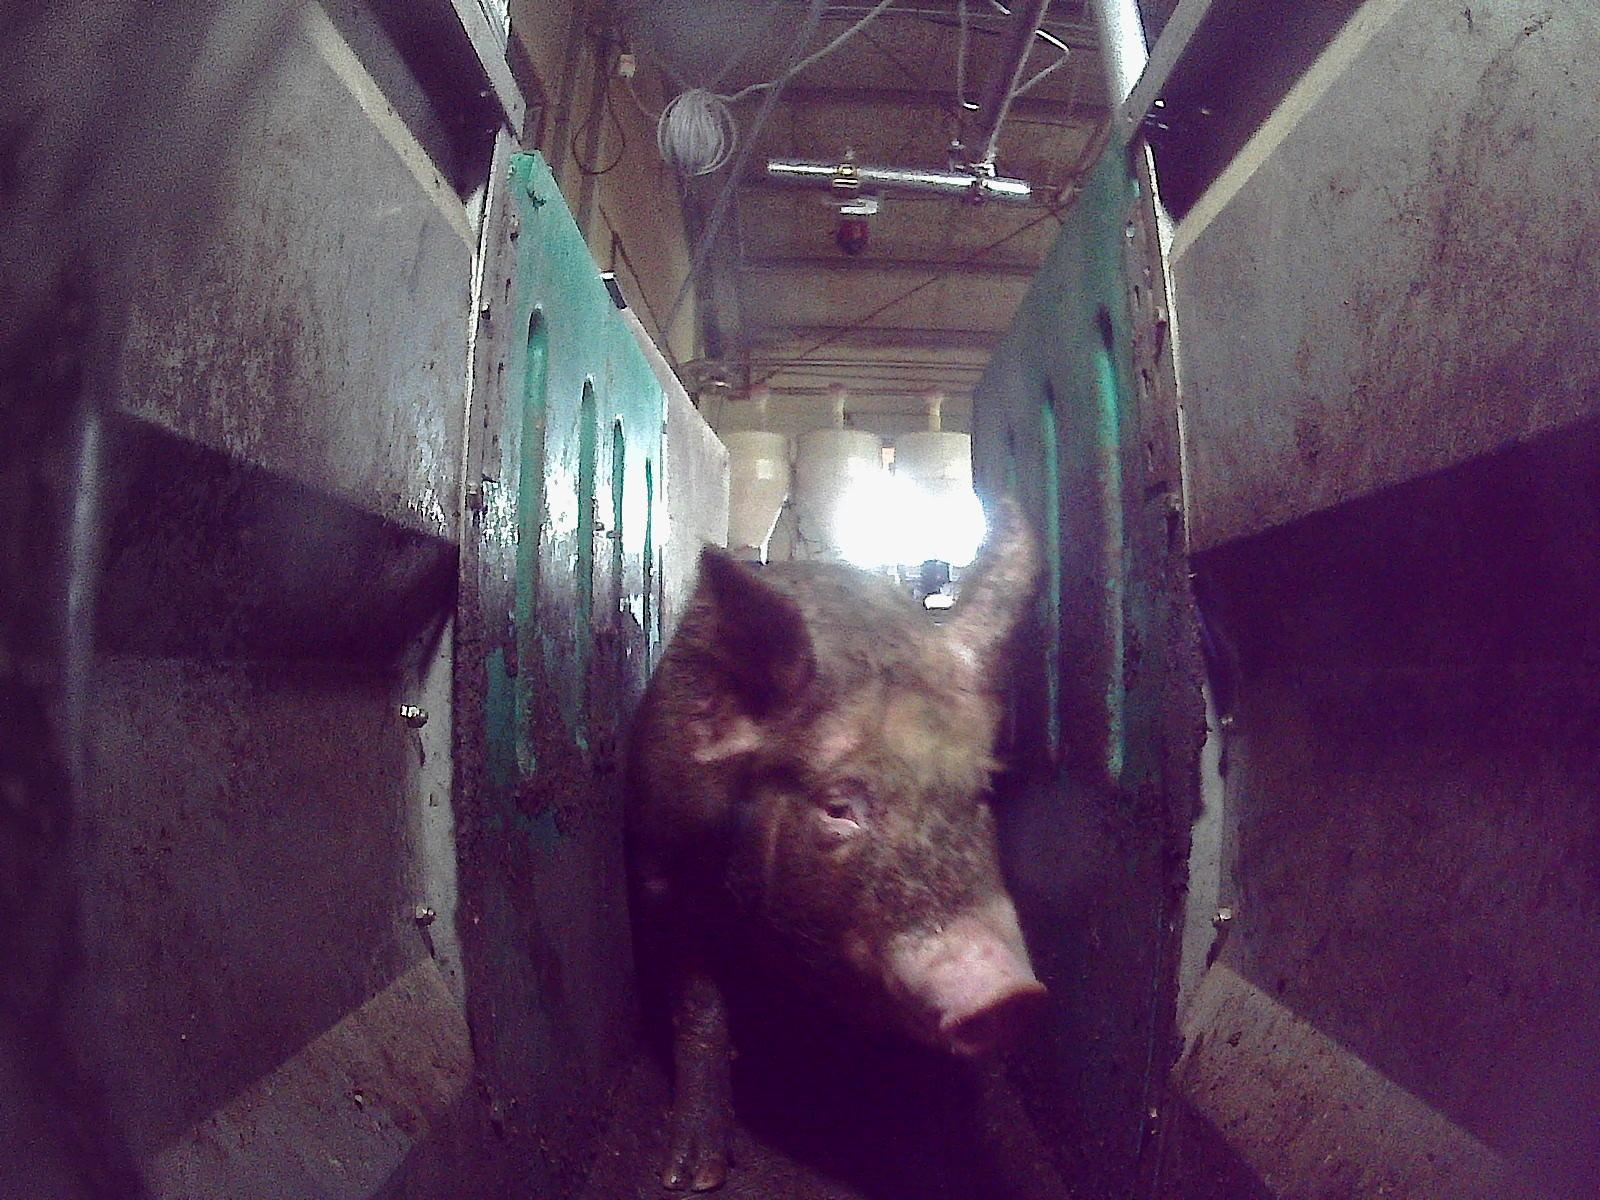Face: (715, 630, 1047, 1057)
